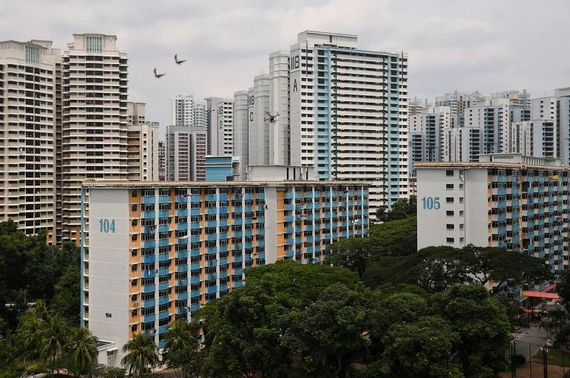drone_other: (263, 108, 281, 124)
